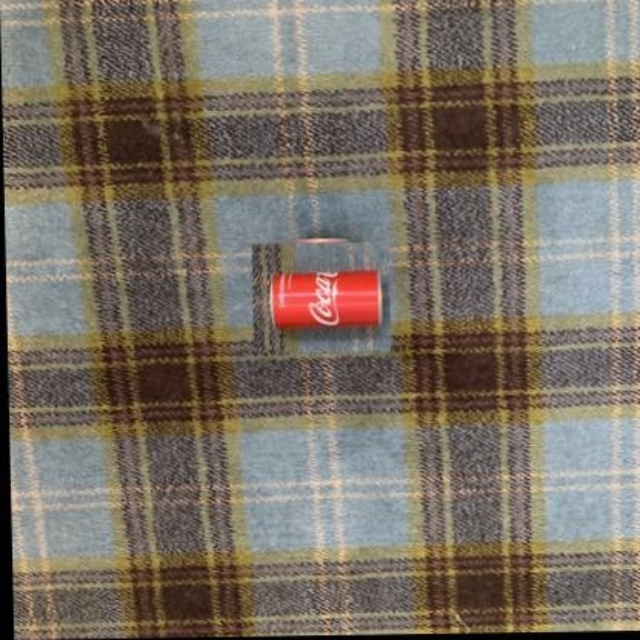trash: (271, 271, 380, 326)
